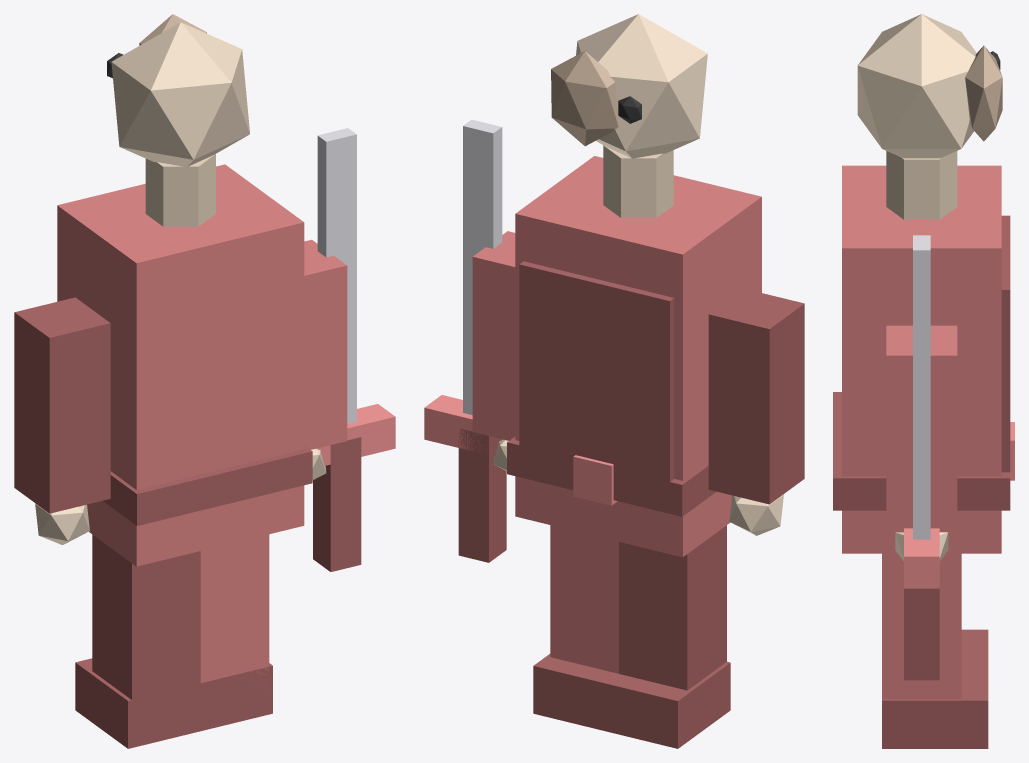
File: sunwu.glb
3 renders of one model, left to right at view 1: azimuth 30°, elevation 25°; view 2: azimuth 150°, elevation 25°; view 3: azimuth 270°, elevation 25°, orthographic.
Visible parts, largest first — view 1: sunwu; view 2: sunwu; view 3: sunwu.
Part boxes in pixels (box(x1,y1,x2,y2)): sunwu: box(14, 14, 395, 748); sunwu: box(424, 14, 804, 748); sunwu: box(833, 14, 1014, 748).
Bounding box in the file's own units: 0.93 × 1.74 × 0.41.
